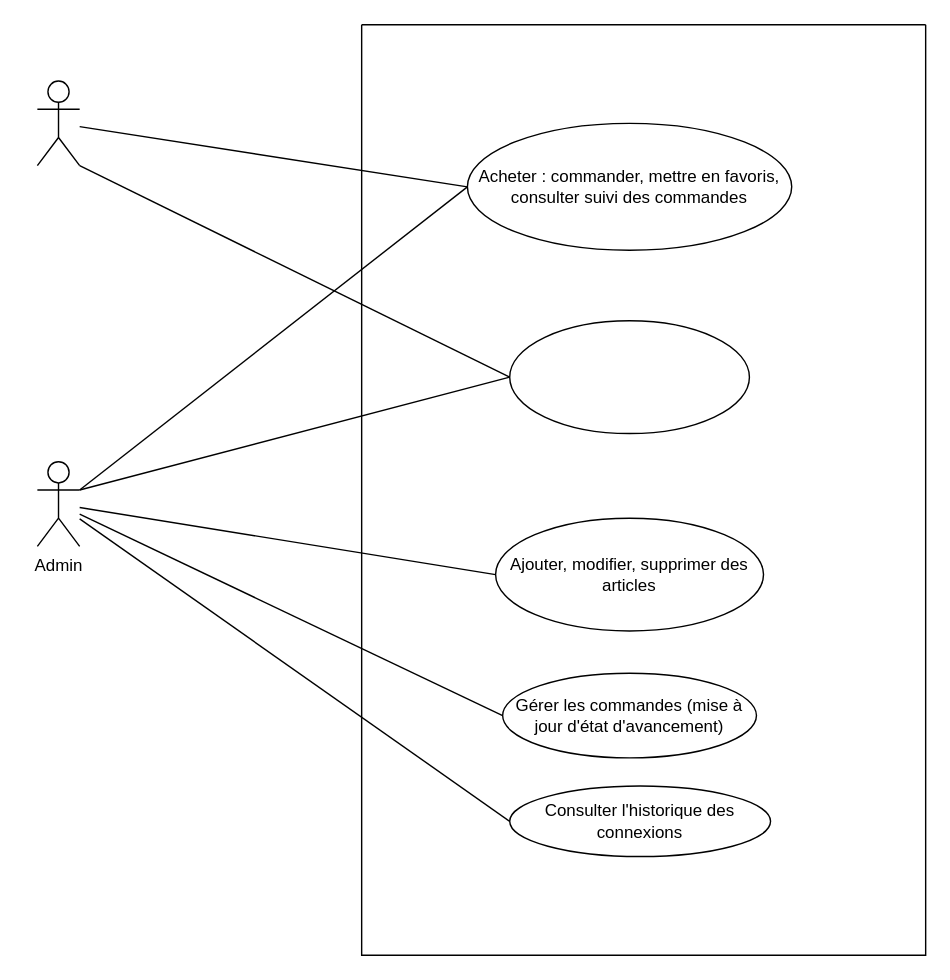
Image size: 950x980. Some labels were removed from this diagram. Each missing label, with the centre of its shape:
"Acheteur" belongs at point 58,123.
"Consulter l'historique des commandes" belongs at point 628,376.
